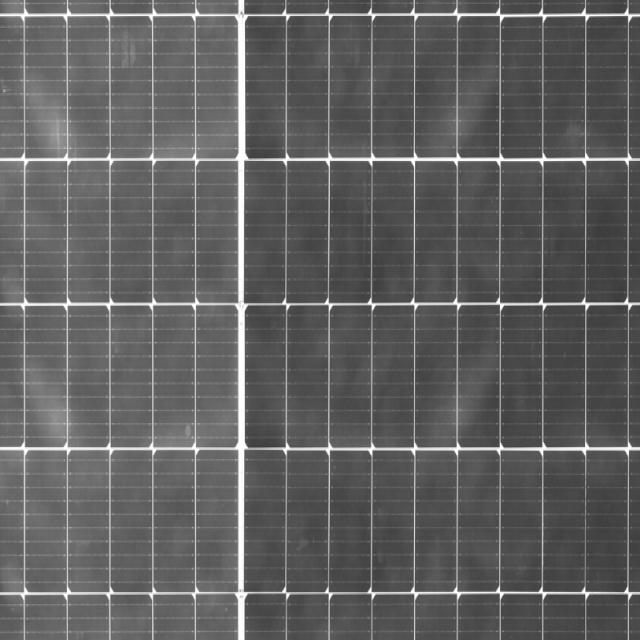CORRECT: (229, 0, 640, 632), (49, 27, 301, 640), (379, 75, 625, 579)
